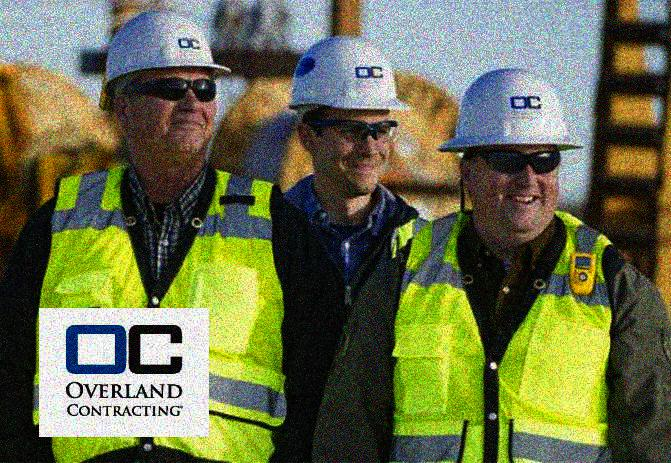helmet: (439, 66, 581, 237), (101, 10, 236, 169), (288, 34, 413, 191)
